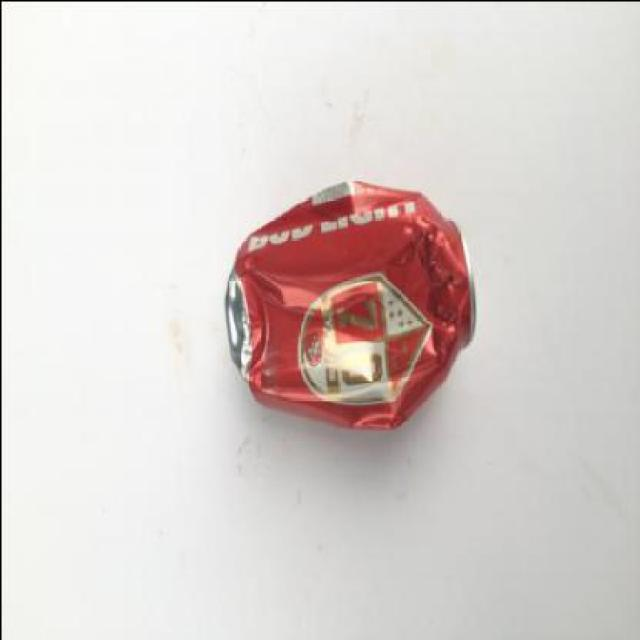METAL: (222, 176, 475, 432)
